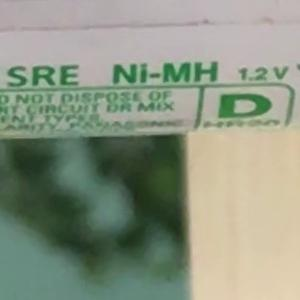NI-MH: (104, 52, 227, 107)
